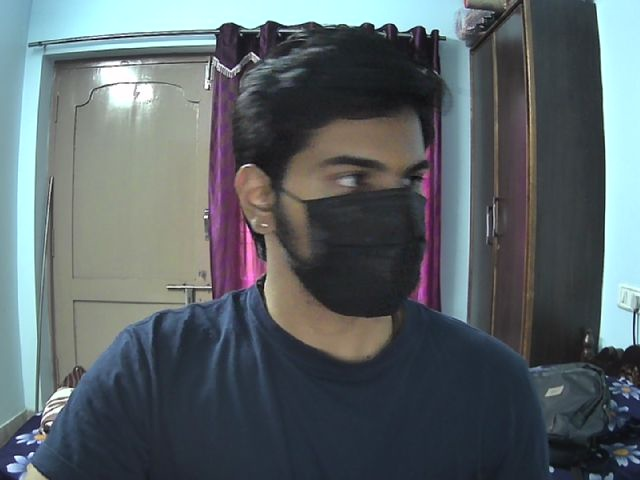Mask: (277, 190, 426, 318)
